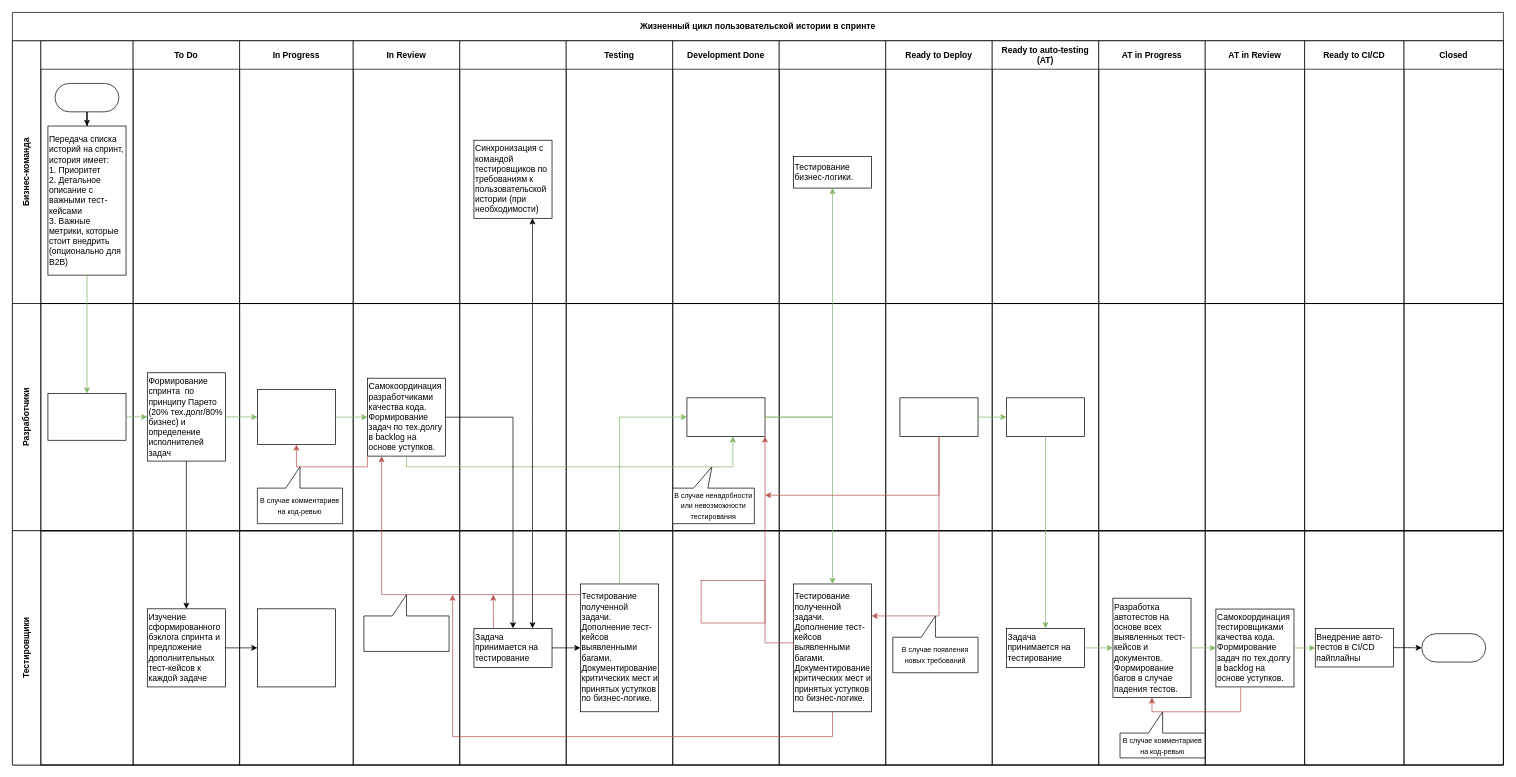
Image size: 1516x777. Some labels were removed from this diagram. The shapes that lost their labels are listed below. From the top down, each one's box as (x1, y1, x2, y2) in pixels, then its label:
(54, 83, 119, 112): Начало
(40, 40, 133, 304): Backlog
(459, 40, 566, 304): Ready for testing
(779, 40, 886, 304): Release Testing
(47, 393, 126, 440): Декомпозиция полученных историй и оценка конечных задач
(257, 389, 335, 445): Ежедневные стэндапы для координации работы разработчиков
(686, 397, 765, 436): Передача кода в релизную ветку
(899, 397, 978, 436): Подготовка деплоя в прод
(1006, 397, 1085, 436): Деплой
(700, 580, 765, 623): В случае отказа доставки в следующий релиз
(363, 594, 449, 651): В случае выявленных багов, несоответствий или новых требований
(257, 608, 335, 687): Блок на предложение дополнительных тест-кейсов до этапа тестирования
(1421, 633, 1486, 662): Конец
